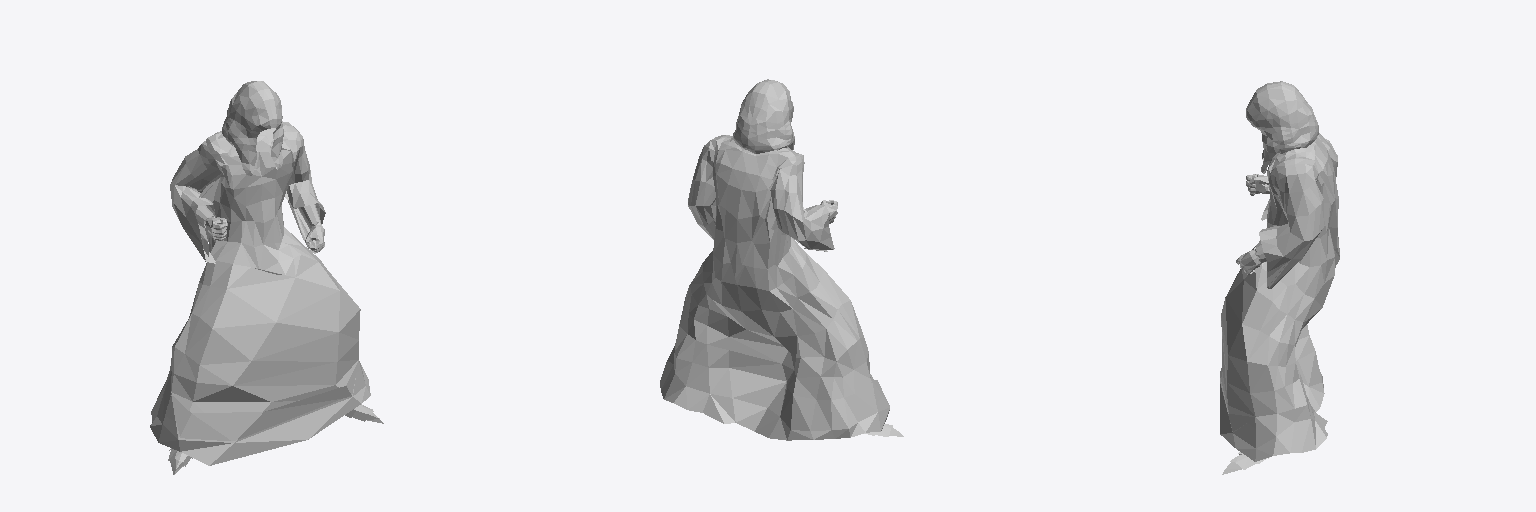
File: Rider_FlyAnim_5.obj
The picture shows the model from 3 angles: view 1: azimuth 30°, elevation 25°; view 2: azimuth 150°, elevation 25°; view 3: azimuth 270°, elevation 25°; orthographic projection.
Parts seen in each view (by area): view 1: dm_nazgulrobe_ride, dm_nazgulrobe_ride.1, dm_nazgulrobe_ride.2; view 2: dm_nazgulrobe_ride; view 3: dm_nazgulrobe_ride, dm_nazgulrobe_ride.1.
Part boxes in pixels (x1,y1,x2,y2): dm_nazgulrobe_ride: (150,81,370,465); dm_nazgulrobe_ride.1: (195,204,324,252); dm_nazgulrobe_ride.2: (168,404,383,474); dm_nazgulrobe_ride: (660,79,889,440); dm_nazgulrobe_ride: (1220,81,1339,461); dm_nazgulrobe_ride.1: (1236,174,1269,274).
Size of the model in its own units: 0.2182 by 0.3325 by 0.1048.